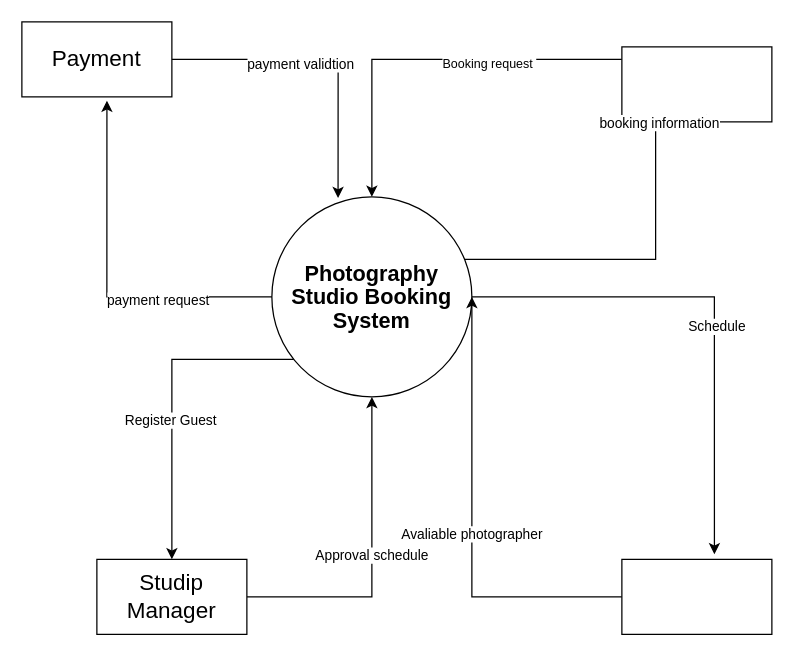
Image size: 794x656. Some labels were removed from this diagram. Each missing label, with the box of its shape:
Client: (621, 46, 772, 122)
Photographer: (621, 558, 772, 634)
